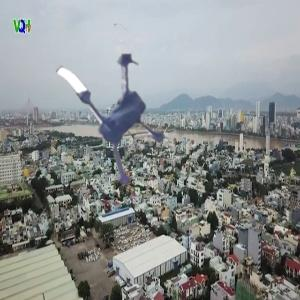drone: (30, 26, 193, 189)
